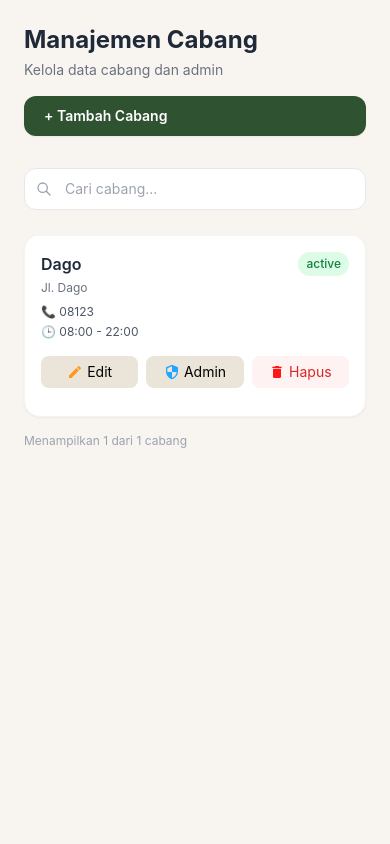
Cabang Page › membuka modal edit dengan data terisi
The image size is (390, 844).
Expected: the heading "Dago" is shown, [41,252,88,276]
Click the button "Edit". click: (90, 372)
box: [41,356,138,388]
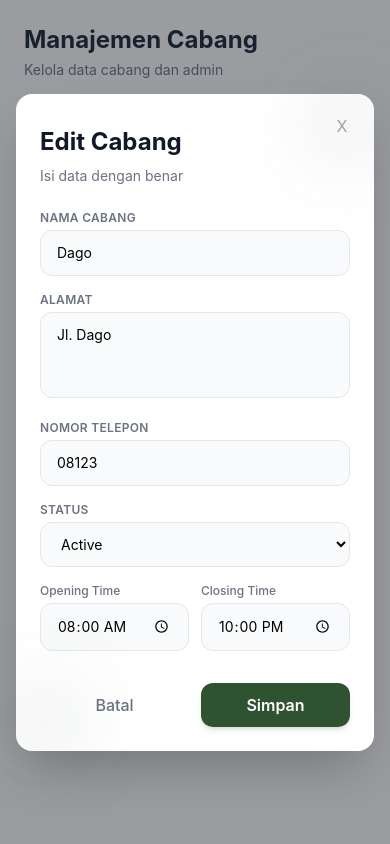
Expected: the field showing "Dago" below "Nama Cabang" is shown, [40,230,350,276]
Expected: the text box showing "Jl. Dago" is shown, [40,312,350,398]
